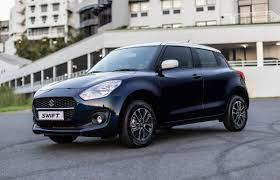Hatchback: (29, 40, 251, 148)
